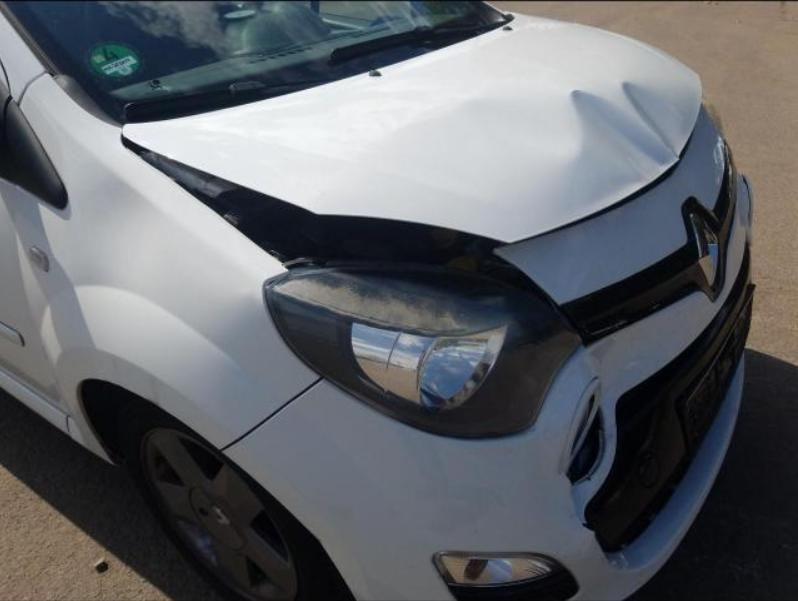Fender: (13, 73, 321, 462)
Front-bumper: (225, 174, 755, 600), (497, 104, 725, 303)
Front-door: (1, 178, 68, 415), (1, 70, 11, 107)
Front-wheel: (128, 417, 313, 600)
Grille: (556, 139, 741, 346)
Headlight: (267, 262, 582, 439)
Hood: (124, 14, 702, 243)
License-plate: (688, 286, 753, 441)
Rocker-panel: (0, 369, 69, 435)
Windshield: (1, 0, 512, 122)
